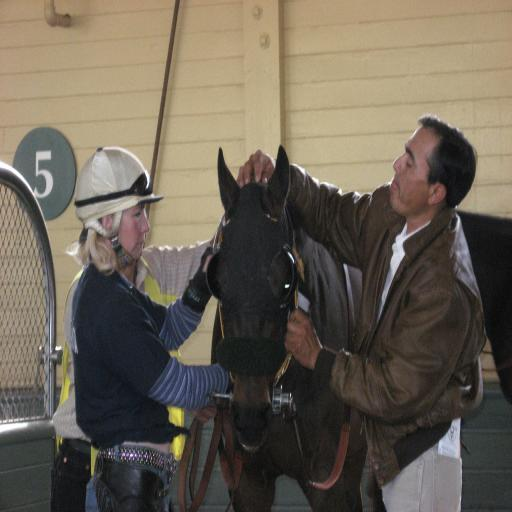Horse: (208, 146, 364, 512)
